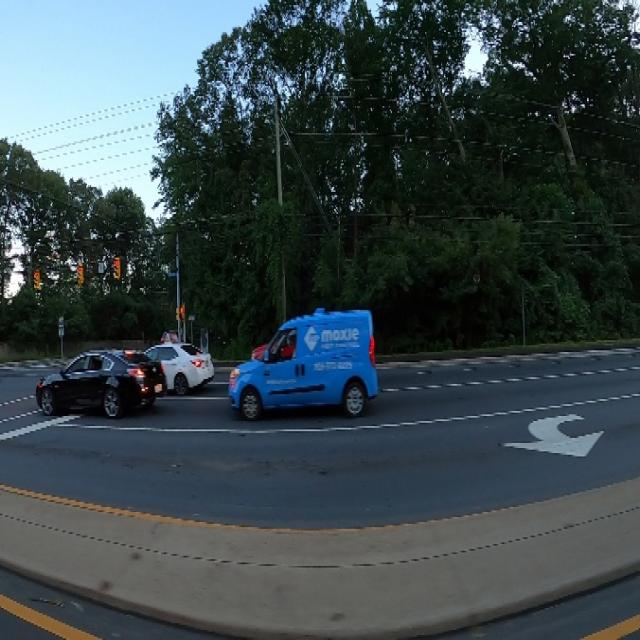car: (224, 307, 383, 425), (26, 351, 171, 420), (131, 330, 213, 393)
